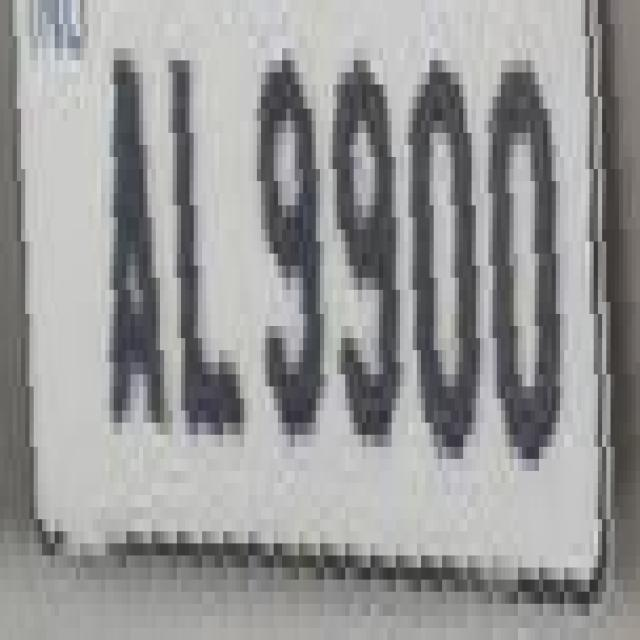license_plate: (0, 0, 619, 507)
